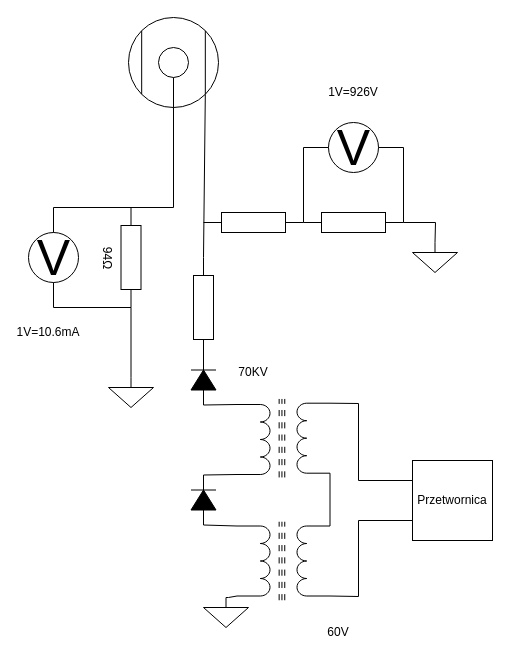
Some shapes in this 510 by 665 pixel diagram are drawn without their labels. The centre of each missing label's shape, as x and y in pixels:
"10kΩ" belongs at point (353, 222).
"960MΩ" belongs at point (253, 222).
